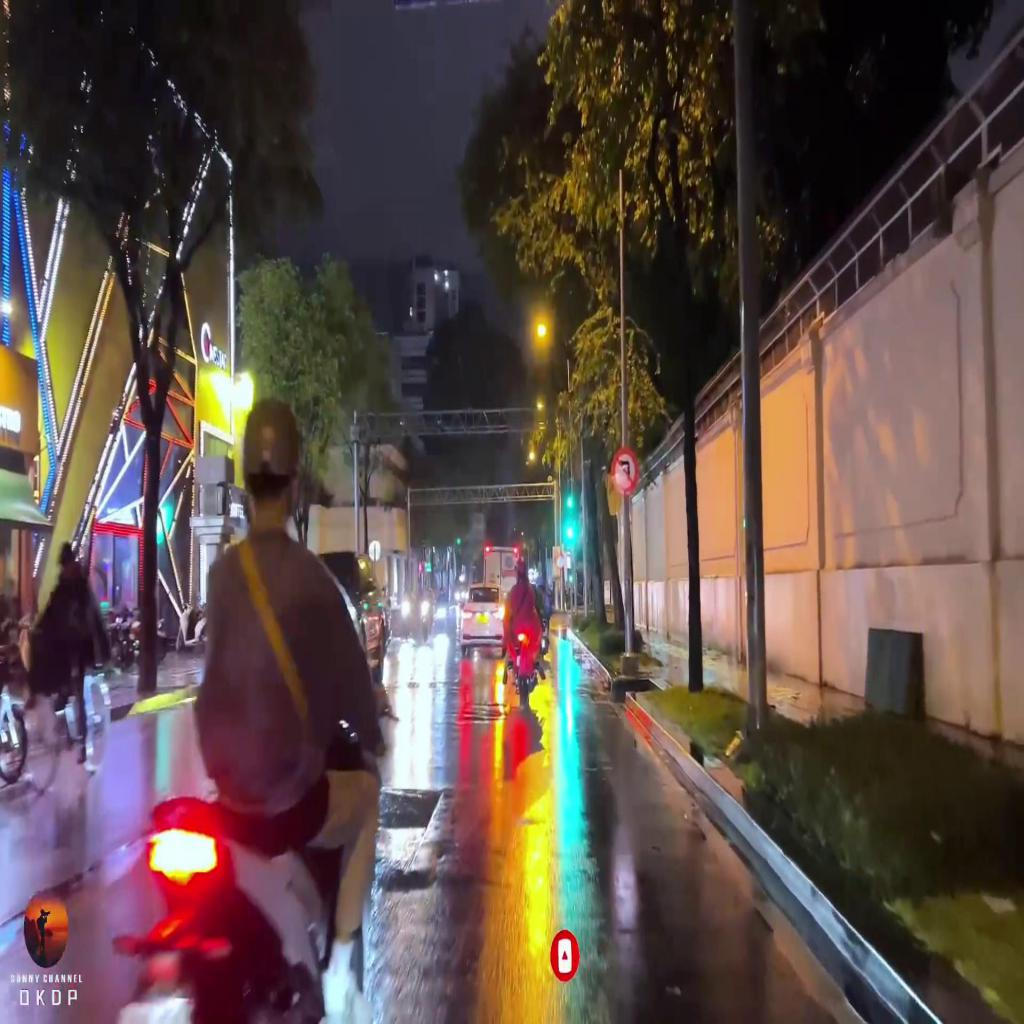cam_re_trai: (611, 447, 640, 496)
